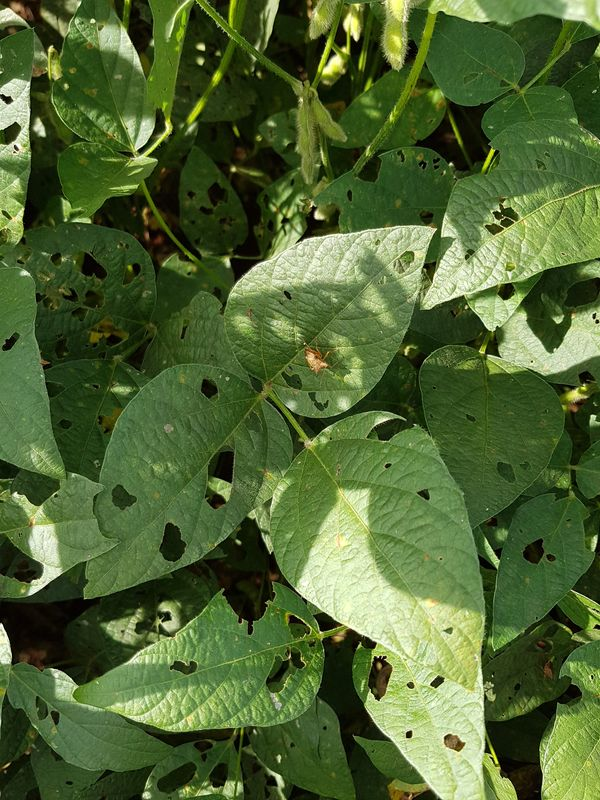Euschistus_heros_adulto: (292, 336, 337, 381), (535, 654, 563, 687)
